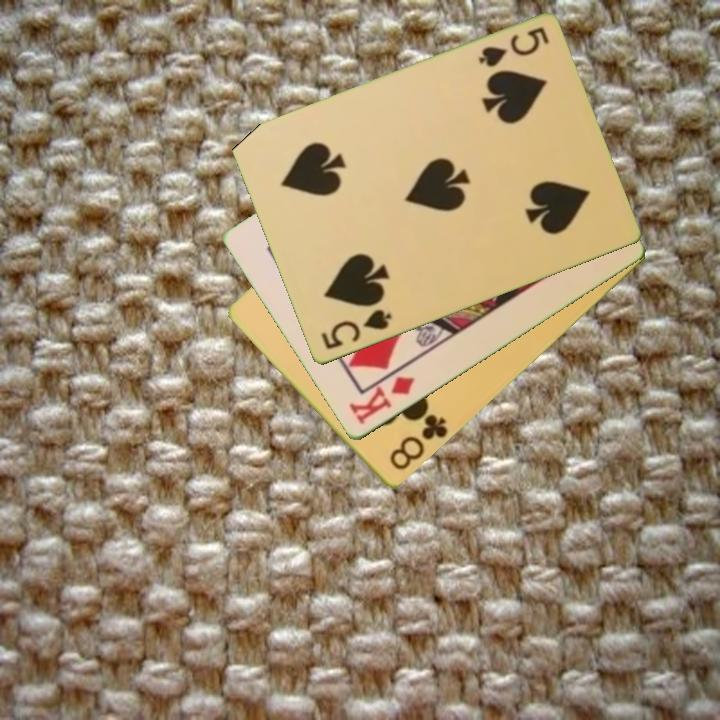5s: (474, 23, 552, 71), (317, 306, 394, 353)
8c: (386, 407, 451, 474)
Kd: (345, 373, 418, 428)
